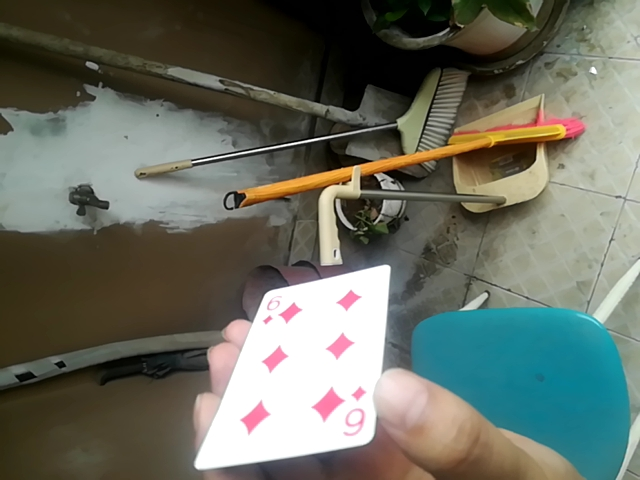fk 6: (194, 258, 386, 473)
